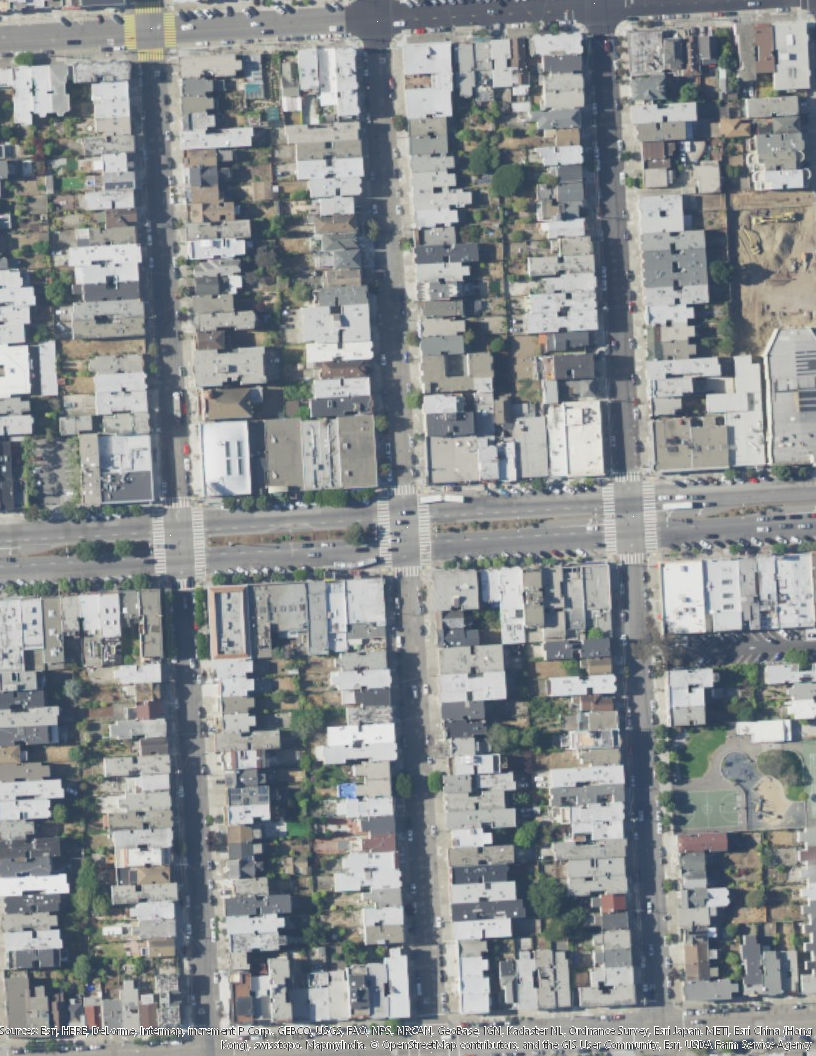zebracross: (374, 496, 394, 566), (600, 483, 619, 553), (149, 508, 167, 575), (642, 481, 659, 550), (416, 497, 432, 565), (193, 508, 206, 581), (161, 13, 178, 47), (123, 13, 137, 50), (137, 46, 164, 63), (611, 469, 643, 483), (393, 564, 421, 579), (133, 1, 162, 15), (617, 552, 647, 565), (389, 484, 417, 496), (164, 497, 189, 507)
